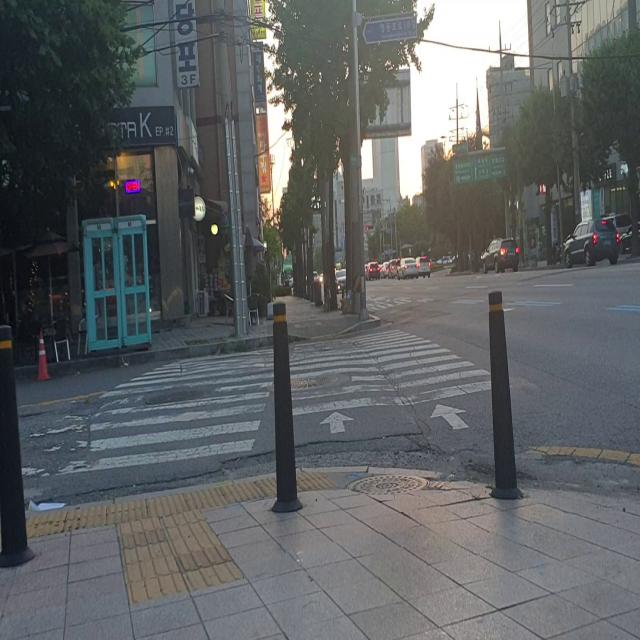횡단보도: (54, 326, 492, 474)
